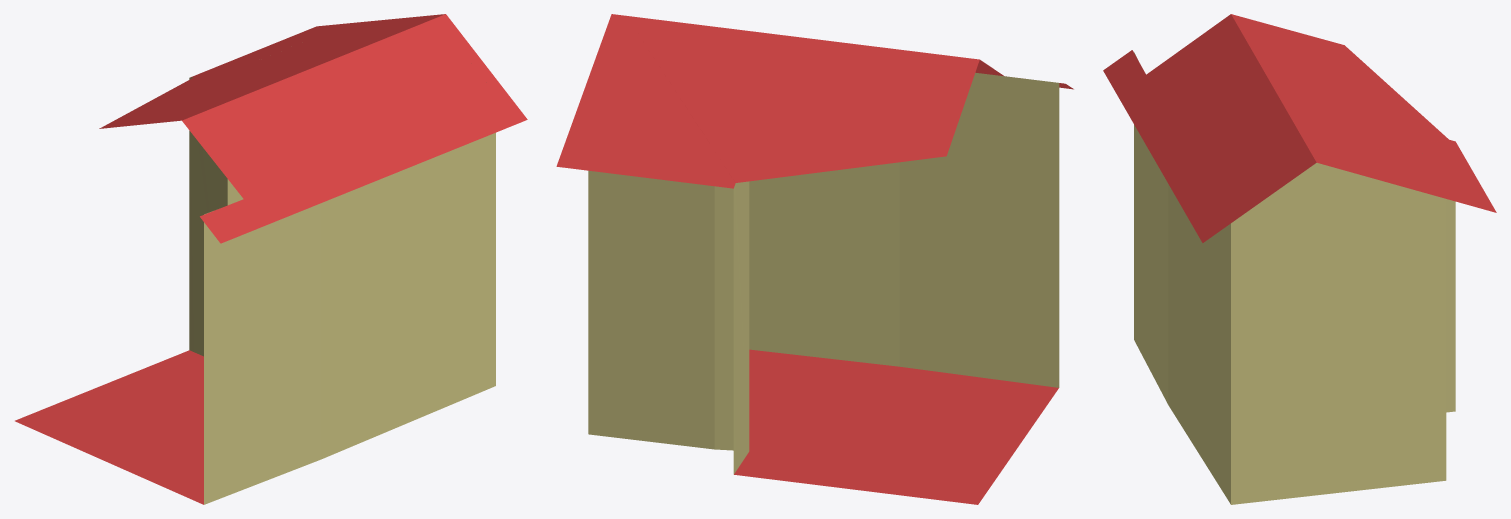
The picture shows the model from 3 angles, left to right: view 1: azimuth 30°, elevation 25°; view 2: azimuth 150°, elevation 25°; view 3: azimuth 270°, elevation 25°; orthographic projection. The views are drawn at different scales.
Size of the model in its own units: 12.52 by 10.39 by 9.86.
